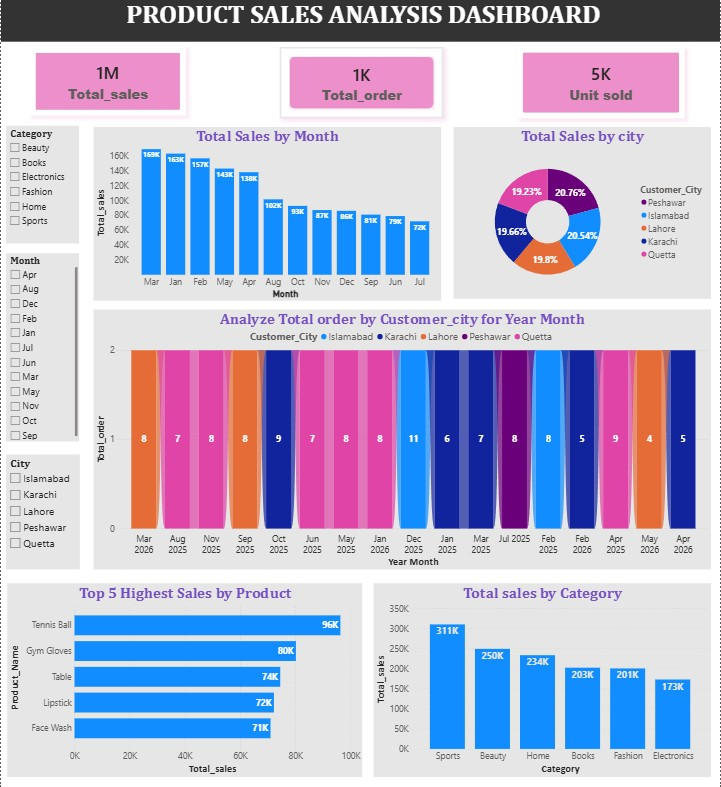

Layout of this report page (visuals, bound fields, positions):
{"tool":"powerbi","page":{"name":"Dashboard","canvas":[2213,2439],"ordinal":0},"visuals":[{"type":"clusteredBarChart","title":"Top 5 Highest Sales by Product","fields":{"Category":["product_sales_dataset.Product_Name"],"Y":["product_sales_dataset.Total_sales"]},"box":[19.2,1803.8,1092.3,596.2],"z":0},{"type":"columnChart","title":"Total Sales by Month","fields":{"Category":["calender.Month"],"Y":["product_sales_dataset.Total_sales"]},"box":[284.6,400,1069.2,534.6],"z":1000},{"type":"donutChart","title":"Total Sales by city","fields":{"Category":["product_sales_dataset.Customer_City"],"Y":["product_sales_dataset.overall_sales"]},"box":[1391.7,400,791.7,529.2],"z":2000},{"type":"clusteredColumnChart","title":"Total sales by Category","fields":{"Category":["product_sales_dataset.Category"],"Y":["product_sales_dataset.Total_sales"]},"box":[1146.2,1803.8,1038.5,596.2],"z":3000},{"type":"textbox","title":"Product Sales Analysis","box":[0,0,2212.5,137.5],"z":4000},{"type":"cardVisual","fields":{"Data":["product_sales_dataset.Total_order"]},"box":[857.7,153.8,503.8,219.2],"z":5000},{"type":"cardVisual","fields":{"Data":["product_sales_dataset.Total_sales"]},"box":[88.5,153.8,480.8,211.5],"z":6000},{"type":"cardVisual","fields":{"Data":["product_sales_dataset.Unit sold"]},"box":[1588.5,153.8,515.4,219.2],"z":7000},{"type":"slicer","fields":{"Values":["product_sales_dataset.Category"]},"box":[16.7,395.8,225,362.5],"z":8000},{"type":"slicer","fields":{"Values":["calender.Month"]},"box":[16.7,787.5,225,579.2],"z":9000},{"type":"ribbonChart","title":"Analyze Total order by Customer_city for Year Month","fields":{"Category":["calender.Year Month"],"Series":["product_sales_dataset.Customer_City"],"Y":["product_sales_dataset.Total_order"]},"box":[284.6,961.5,1900,800],"z":10000},{"type":"slicer","fields":{"Values":["product_sales_dataset.Customer_City"]},"box":[15.4,1407.7,226.9,353.8],"z":11000}]}

Visuals, with their boxes in screenshot pixels (x1, y1, x2, y2), scaled from the page's 2213x2439 canvas onto the 721x787 screenshot:
"Top 5 Highest Sales by Product" clusteredBarChart: x1=6, y1=582, x2=362, y2=774
"Total Sales by Month" columnChart: x1=93, y1=129, x2=441, y2=302
"Total Sales by city" donutChart: x1=453, y1=129, x2=711, y2=300
"Total sales by Category" clusteredColumnChart: x1=373, y1=582, x2=712, y2=774
"Product Sales Analysis" textbox: x1=0, y1=0, x2=720, y2=44
cardVisual - product_sales_dataset.Total_order: x1=279, y1=50, x2=444, y2=120
cardVisual - product_sales_dataset.Total_sales: x1=29, y1=50, x2=185, y2=118
cardVisual - product_sales_dataset.Unit sold: x1=518, y1=50, x2=685, y2=120
slicer - product_sales_dataset.Category: x1=5, y1=128, x2=79, y2=245
slicer - calender.Month: x1=5, y1=254, x2=79, y2=441
"Analyze Total order by Customer_city for Year Month" ribbonChart: x1=93, y1=310, x2=712, y2=568
slicer - product_sales_dataset.Customer_City: x1=5, y1=454, x2=79, y2=568
